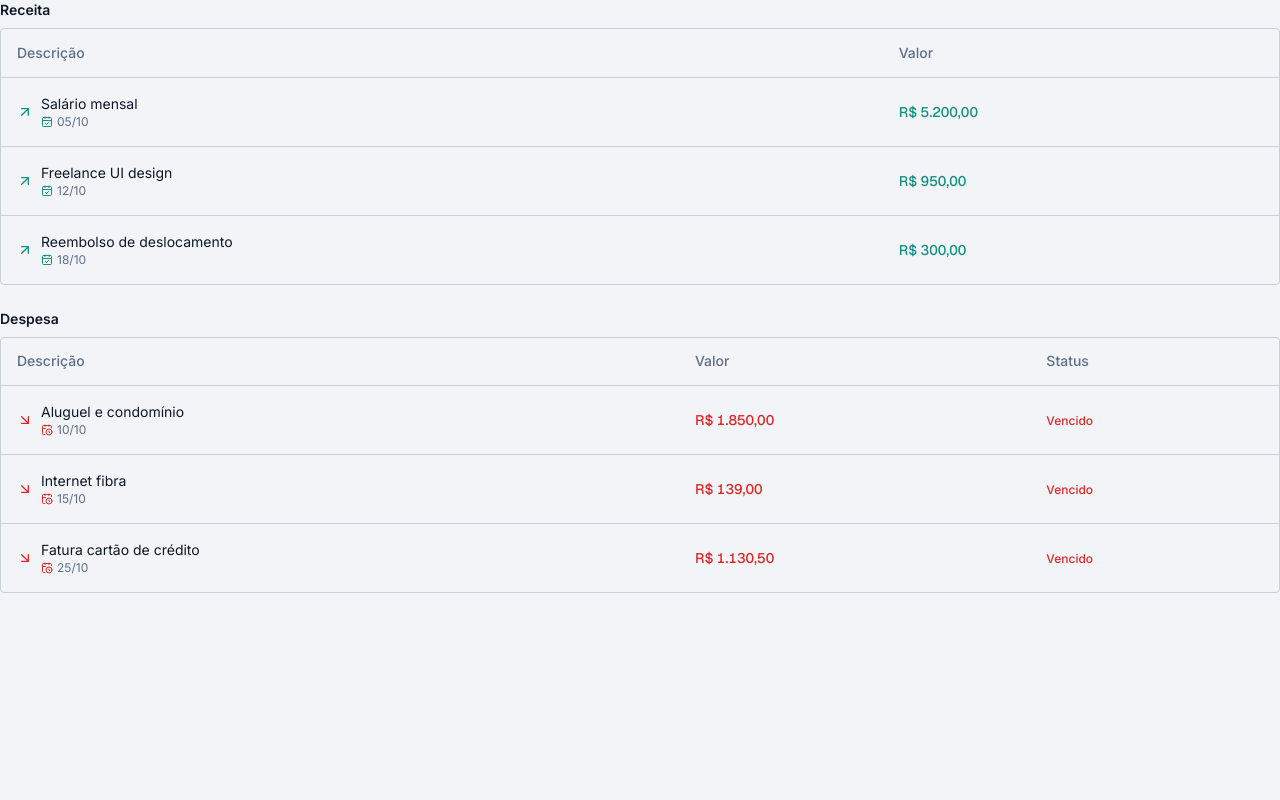
Test: ListaLancamentos — marcar despesa como paga › confirmar marca a despesa como paga e fecha o dialogo
Click the text "Fatura cartão de crédito": (120,550) 41,540 -> 200,560
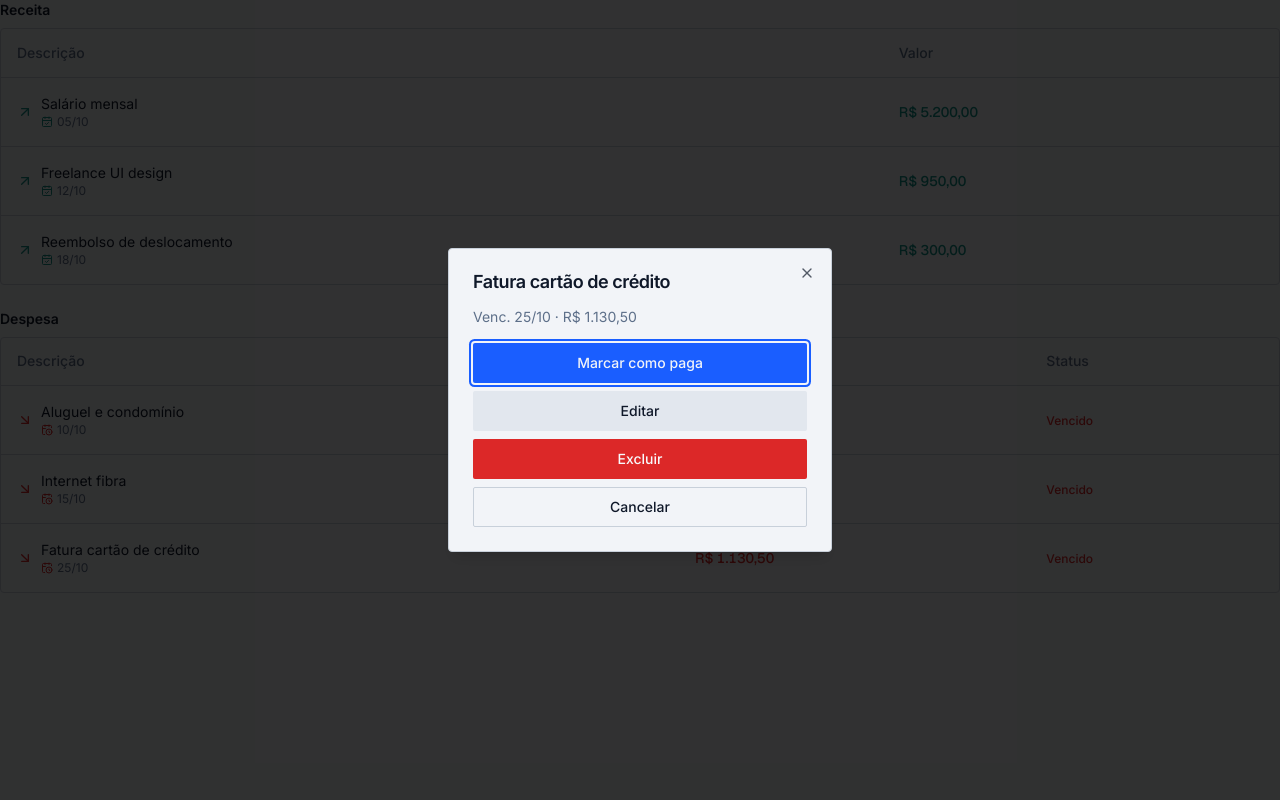
Expected: the button "Marcar como paga" is shown
Click the button "Marcar como paga": (640,363) 473,343 -> 807,383
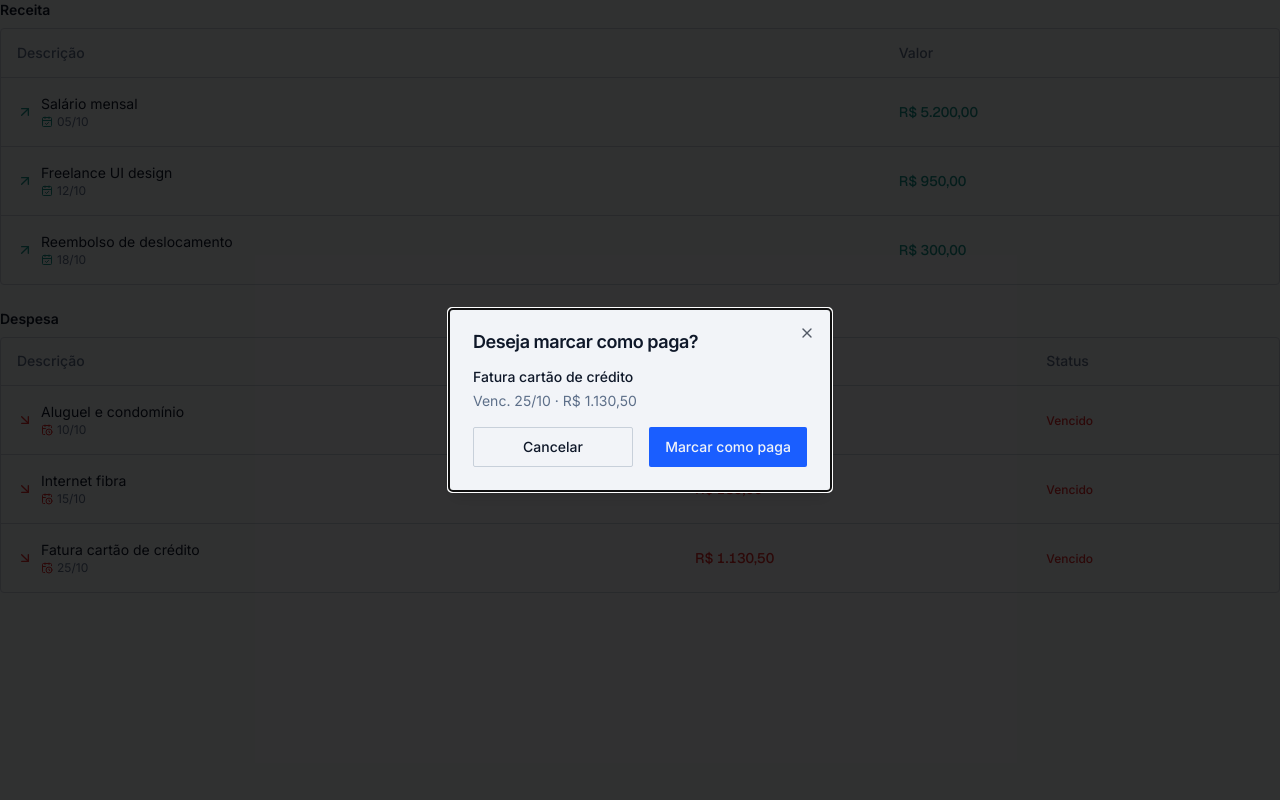
Expected: the heading "Deseja marcar como paga?" is shown, 473,331 -> 698,352
Click the button "Marcar como paga": (728,447) 649,427 -> 807,467
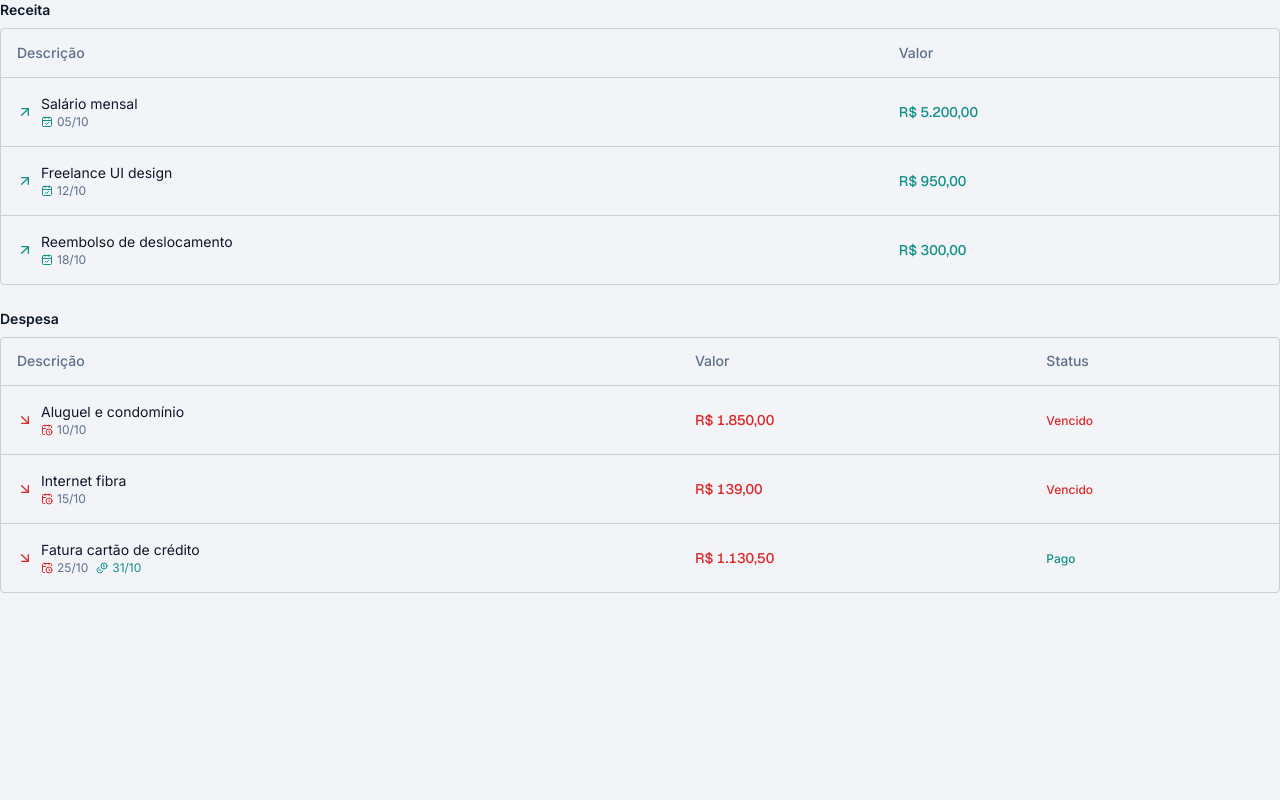
Expected: the heading "Deseja marcar como paga?" is gone
